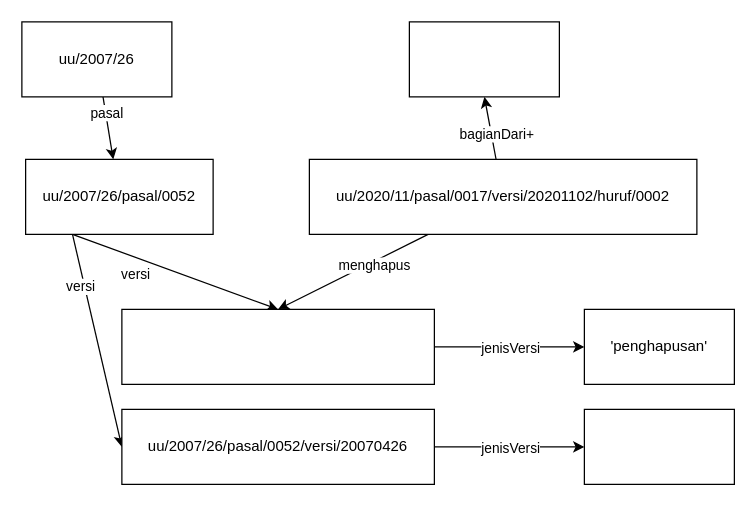
This 756x506 diagram has some shape labels left out. Each missing label, with the centre of its shape:
"'orisinal'" goes at (658,446).
"uu/2007/26/pasal/0052/versi/20201102" goes at (277,346).
"uu/2020/11" goes at (483,59).
